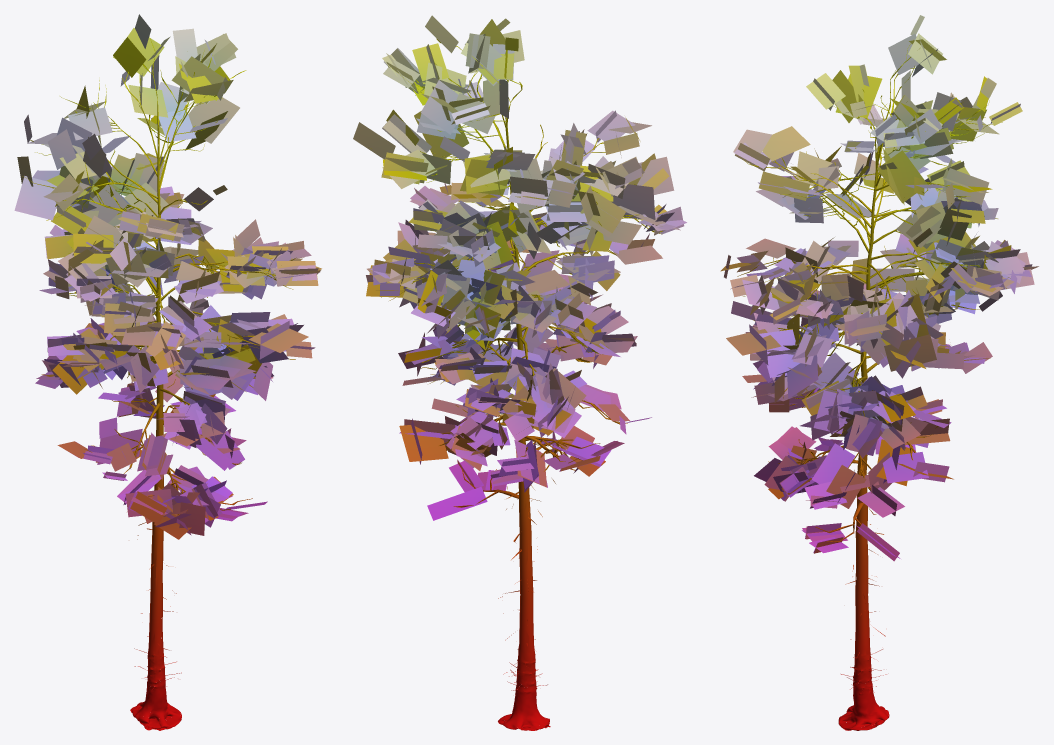
Rendered from pine_a.glb.
3 renders of one model, left to right at view 1: azimuth 30°, elevation 25°; view 2: azimuth 150°, elevation 25°; view 3: azimuth 270°, elevation 25°, orthographic. The views are drawn at different scales.
Parts seen in each view (by area): view 1: cards_lod0, branches_lod0, trunk_lod0; view 2: cards_lod0, trunk_lod0, branches_lod0; view 3: cards_lod0, branches_lod0, trunk_lod0.
Part boxes in pixels (x1,y1,x2,y2): cards_lod0: [14, 14, 321, 539]; branches_lod0: [22, 36, 295, 650]; trunk_lod0: [130, 125, 181, 730]; cards_lod0: [353, 15, 686, 520]; trunk_lod0: [498, 117, 550, 730]; branches_lod0: [370, 38, 662, 664]; cards_lod0: [720, 15, 1038, 561]; branches_lod0: [737, 39, 1010, 658]; trunk_lod0: [838, 145, 889, 730].
Size of what is drawn, in the model's own units: 5.82 by 15.27 by 6.36.
